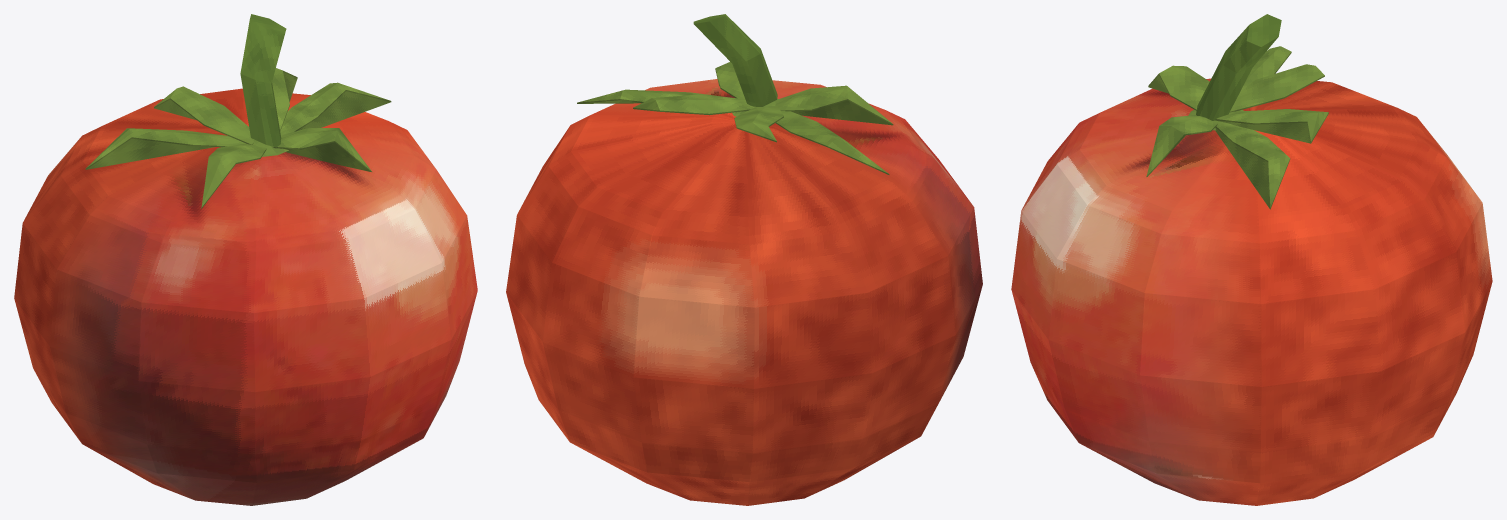
Rendered from tomato.glb.
The picture shows the model from 3 angles, left to right: view 1: azimuth 30°, elevation 25°; view 2: azimuth 150°, elevation 25°; view 3: azimuth 270°, elevation 25°; orthographic projection. The views are drawn at different scales.
Parts seen in each view (by area): view 1: Tomato; view 2: Tomato; view 3: Tomato.
Part boxes in pixels (bbox=[...]): Tomato: bbox=[14, 14, 477, 505]; Tomato: bbox=[506, 14, 982, 505]; Tomato: bbox=[1011, 14, 1492, 505].
Bounding box in the file's own units: 2.01 × 2.13 × 2.01.
1 material, 1 textured.
